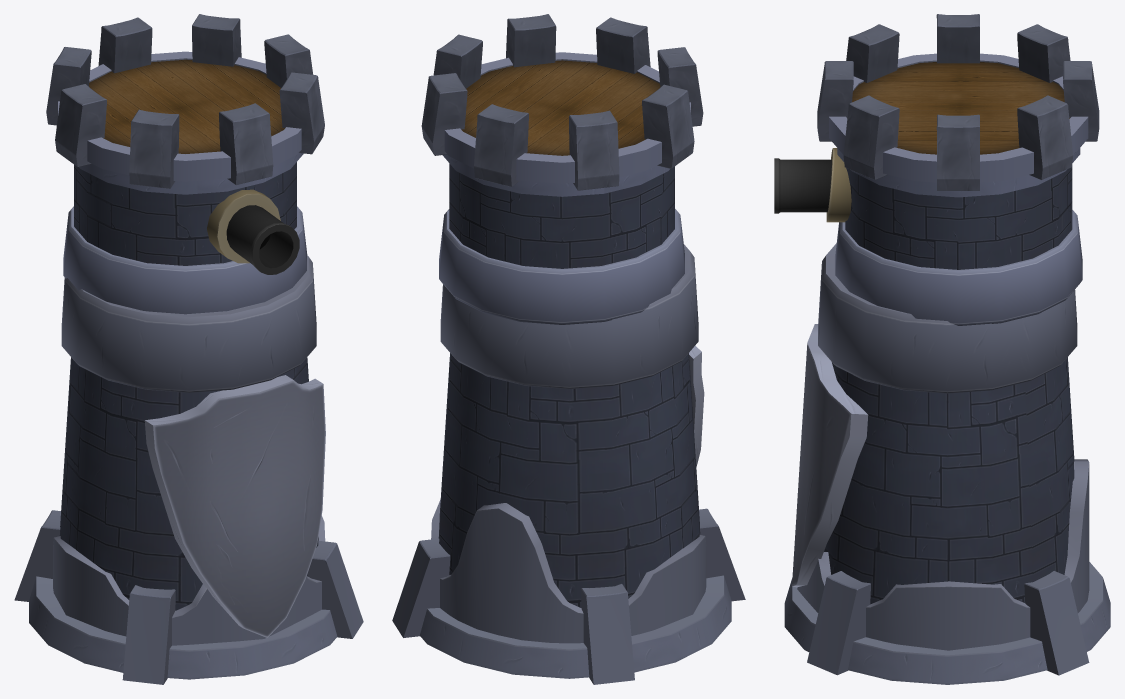
File: SpeedTower.fbx
3 renders of one model, left to right at view 1: azimuth 30°, elevation 25°; view 2: azimuth 150°, elevation 25°; view 3: azimuth 270°, elevation 25°, orthographic.
Visible parts, largest first — view 1: Tower_Base, Tower_Top, Shield_Big, Tower_Top_Deco, Tower_Base_Deco; view 2: Tower_Base, Tower_Top, Tower_Base_Deco, Tower_Top_Deco, Shield_Big; view 3: Tower_Base, Tower_Top, Tower_Top_Deco, Tower_Base_Deco, Shield_Big.
Boxes of the visible parts, bbox=[...] form: Tower_Base: bbox=[29, 255, 337, 679]; Tower_Top: bbox=[58, 51, 307, 314]; Shield_Big: bbox=[144, 375, 325, 637]; Tower_Top_Deco: bbox=[46, 14, 324, 274]; Tower_Base_Deco: bbox=[14, 510, 363, 684]; Tower_Base: bbox=[420, 244, 731, 678]; Tower_Top: bbox=[439, 52, 690, 324]; Tower_Base_Deco: bbox=[392, 499, 745, 684]; Tower_Top_Deco: bbox=[421, 14, 703, 190]; Shield_Big: bbox=[689, 345, 704, 466]; Tower_Base: bbox=[784, 243, 1110, 684]; Tower_Top: bbox=[829, 53, 1088, 325]; Tower_Top_Deco: bbox=[774, 14, 1099, 222]; Tower_Base_Deco: bbox=[797, 459, 1089, 675]; Shield_Big: bbox=[792, 324, 868, 587].
Size of the model in its own units: 315 by 574 by 320.
5 materials, 5 textured.
